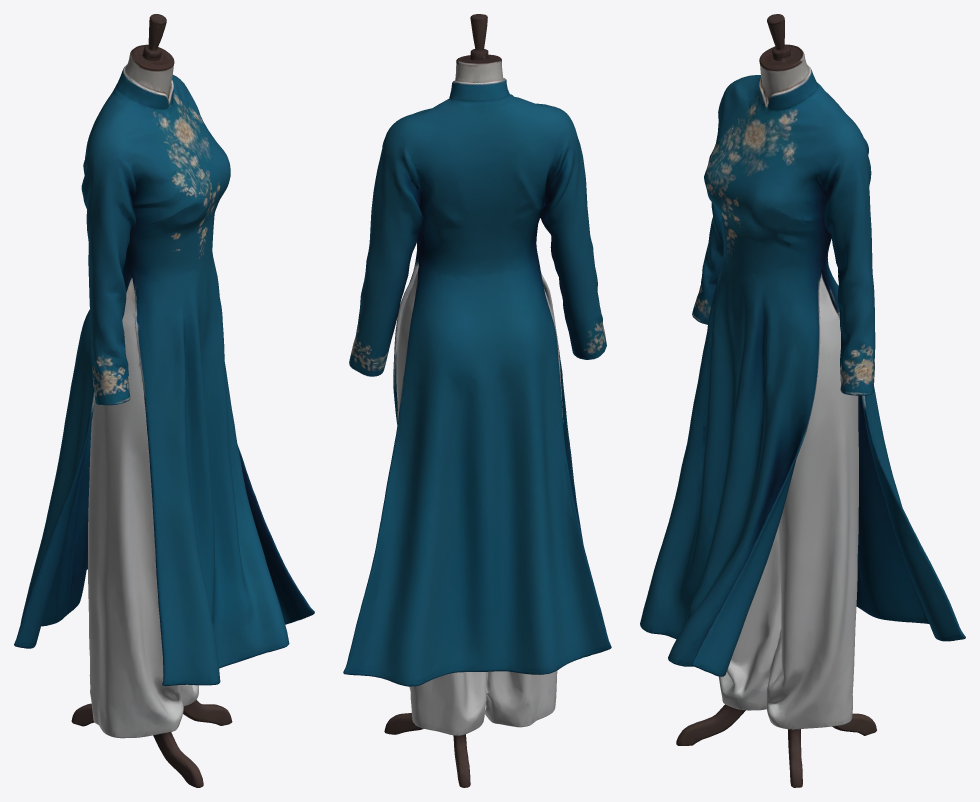
The model's file is 8d618a9f-7b50-4ff1-bd84-881cfc2889cb.glb.
The picture shows the model from 3 angles, left to right: view 1: azimuth 30°, elevation 25°; view 2: azimuth 150°, elevation 25°; view 3: azimuth 270°, elevation 25°; orthographic projection.
Visible parts, largest first — view 1: tripo_node_255e0542-ef3a-43a2-b92b-a5ec7f1a3224; view 2: tripo_node_255e0542-ef3a-43a2-b92b-a5ec7f1a3224; view 3: tripo_node_255e0542-ef3a-43a2-b92b-a5ec7f1a3224.
Boxes of the visible parts, x1,y1,x2,y2 form: tripo_node_255e0542-ef3a-43a2-b92b-a5ec7f1a3224: (14, 14, 314, 787); tripo_node_255e0542-ef3a-43a2-b92b-a5ec7f1a3224: (343, 14, 611, 787); tripo_node_255e0542-ef3a-43a2-b92b-a5ec7f1a3224: (640, 14, 965, 787).
Bounding box in the file's own units: 0.3624 × 1 × 0.4035.
1 material, 1 textured.
